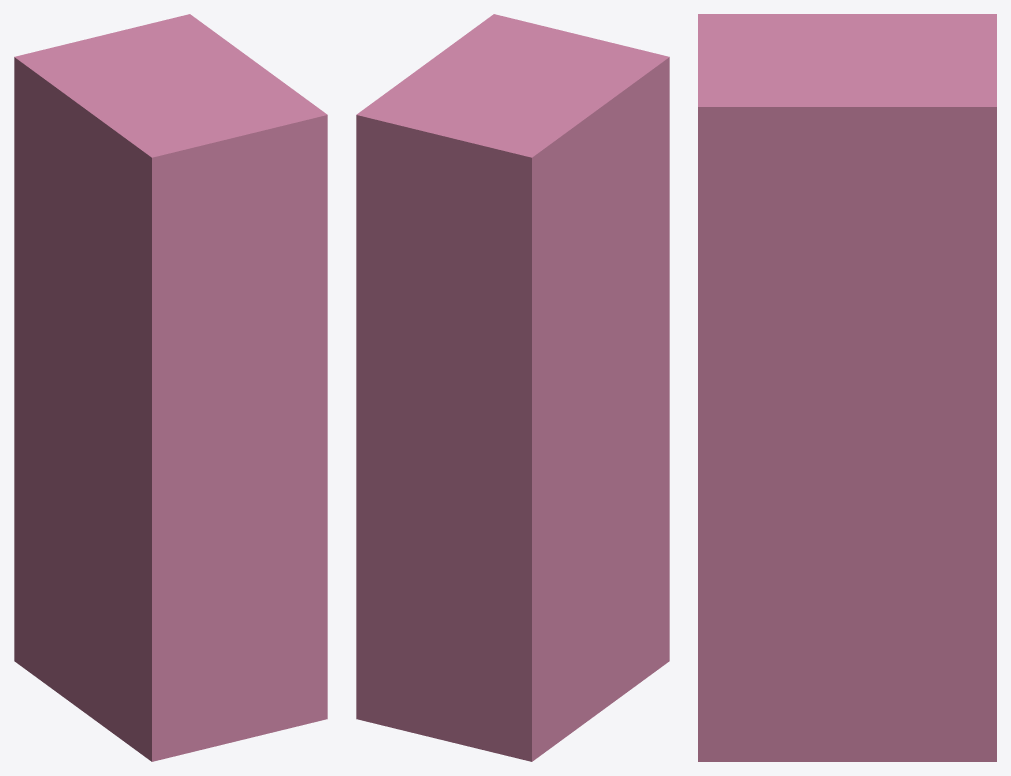
File: tree_oak_sml_a.dae
3 views of the same model, side by side, from view 1: azimuth 30°, elevation 25°; view 2: azimuth 150°, elevation 25°; view 3: azimuth 270°, elevation 25° (orthographic). The views are drawn at different scales.
Visible parts, largest first — view 1: Untitled; view 2: Untitled; view 3: Untitled.
Part boxes in pixels (x1,y1,x2,y2): Untitled: [14, 14, 327, 761]; Untitled: [356, 14, 669, 761]; Untitled: [698, 14, 996, 761].
Size of the model in its own units: 2.54 by 3.45 by 8.34.
